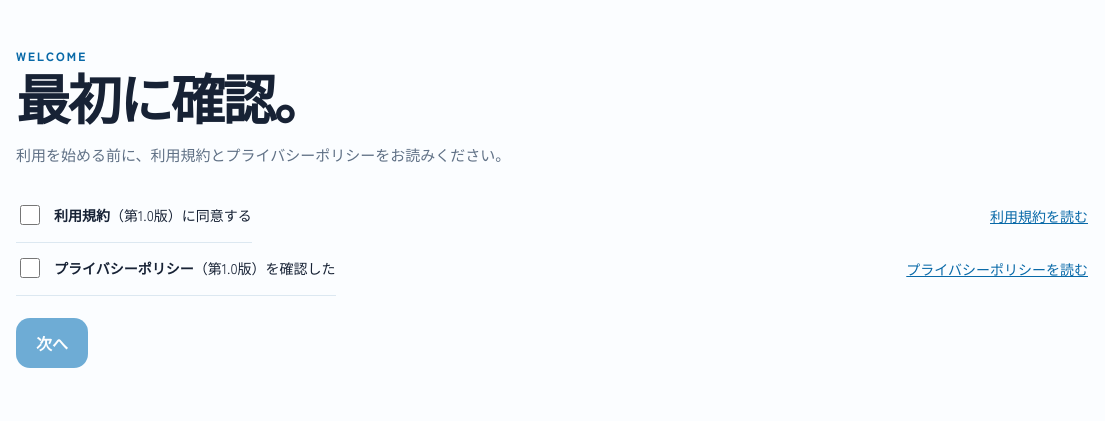
Test case: a version that changed while reading asks for a new confirmation
The width and height of the screenshot is (1105, 421).
Expected: the heading "最初に確認。" is shown, [16,56,325,136]
Click the checkbox labelled "利用規約（第1.0版）に同意する".
click(30, 215)  # box [20,205,40,225]
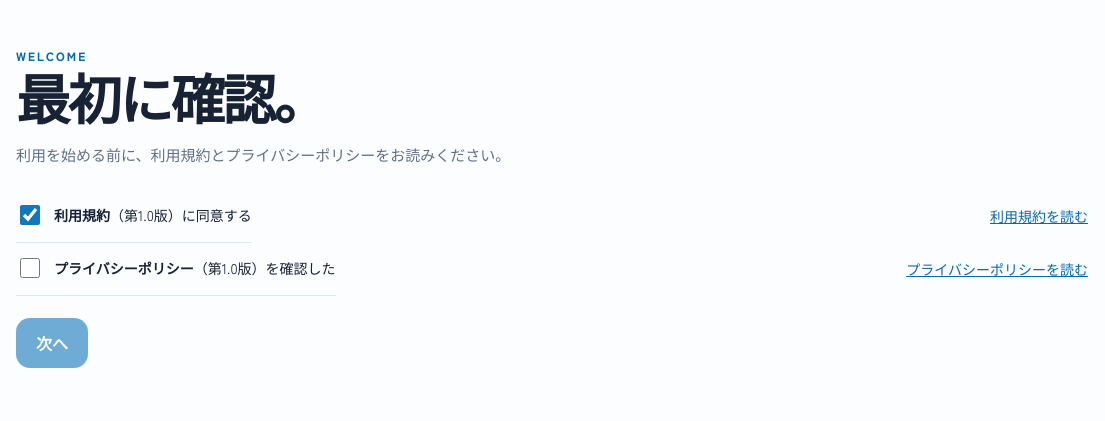
Click the checkbox labelled "プライバシーポリシー（第1.0版）を確認した".
click(30, 268)  # box [20,258,40,278]
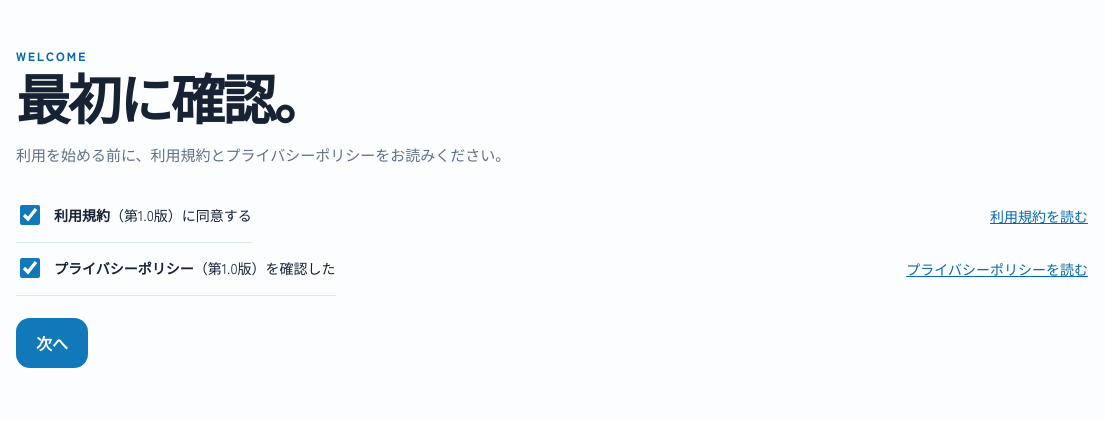
Click the button "次へ".
click(52, 343)  # box [16,318,88,368]
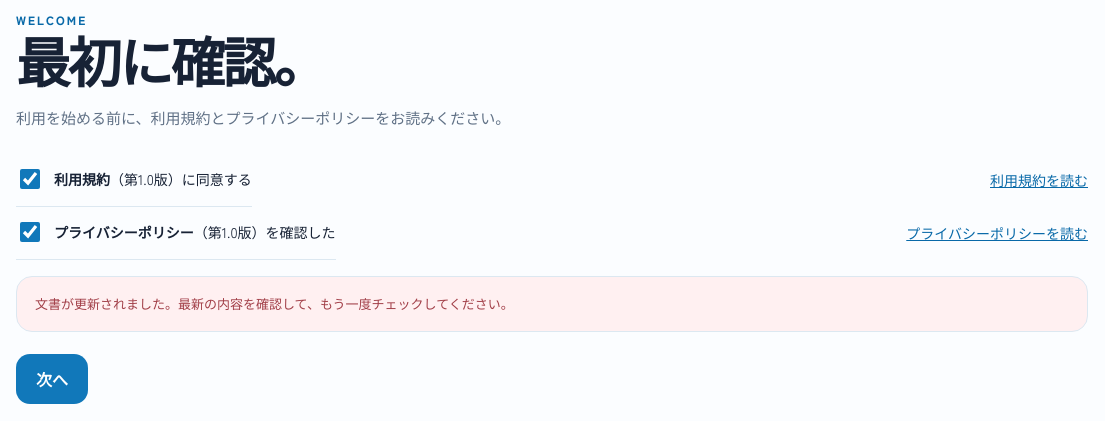
Now the message shows "文書が更新されました", box [35,294,514,313]
